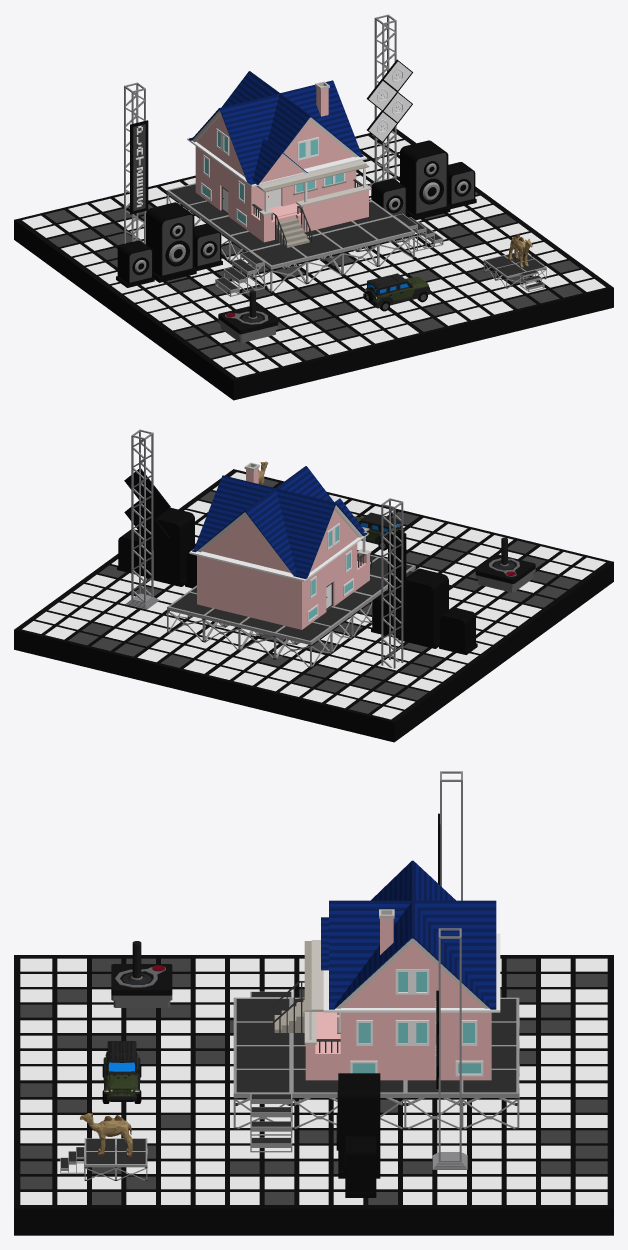
3 views of the same model, one above another, from view 1: azimuth 30°, elevation 25°; view 2: azimuth 150°, elevation 25°; view 3: azimuth 270°, elevation 25° (orthographic). The views are drawn at different scales.
Visible parts, largest first — view 1: Cube.008, Cube.313, OBJRANDOM_JOYSTICK, VEHICLES_JEEP; view 2: Cube.008, Cube.313, OBJRANDOM_JOYSTICK, VEHICLES_JEEP; view 3: Cube.008, Cube.313, OBJRANDOM_JOYSTICK, VEHICLES_JEEP, ANIMAL_CAMELLO.
Part boxes in pixels (x1,y1,x2,y2): Cube.008: [14, 14, 613, 400]; Cube.313: [187, 71, 371, 248]; OBJRANDOM_JOYSTICK: [218, 290, 278, 342]; VEHICLES_JEEP: [363, 273, 430, 311]; Cube.008: [14, 429, 613, 742]; Cube.313: [189, 462, 372, 629]; OBJRANDOM_JOYSTICK: [475, 537, 535, 592]; VEHICLES_JEEP: [354, 512, 404, 550]; Cube.008: [14, 771, 613, 1235]; Cube.313: [272, 860, 500, 1080]; OBJRANDOM_JOYSTICK: [111, 941, 172, 1007]; VEHICLES_JEEP: [102, 1041, 141, 1103]; ANIMAL_CAMELLO: [80, 1112, 132, 1156].
Size of the model in its own units: 4000 by 1922 by 4000.
Materials: 42 (2 with a texture image).
